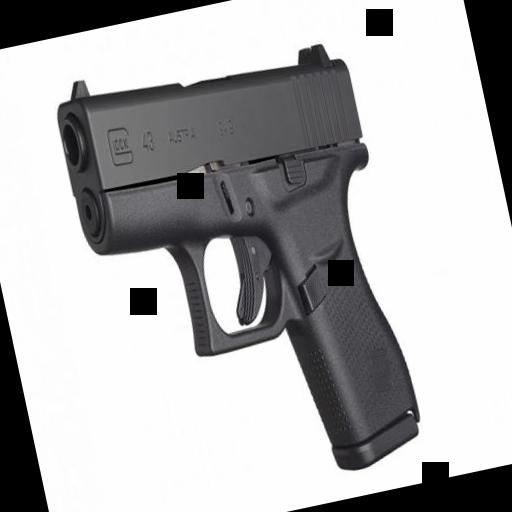Handgun: (44, 17, 430, 512)
